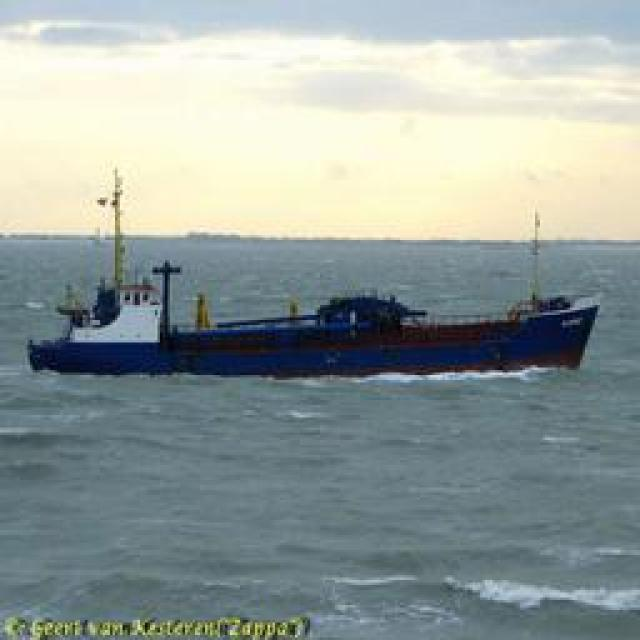CIV_Ship: (28, 278, 598, 380)
